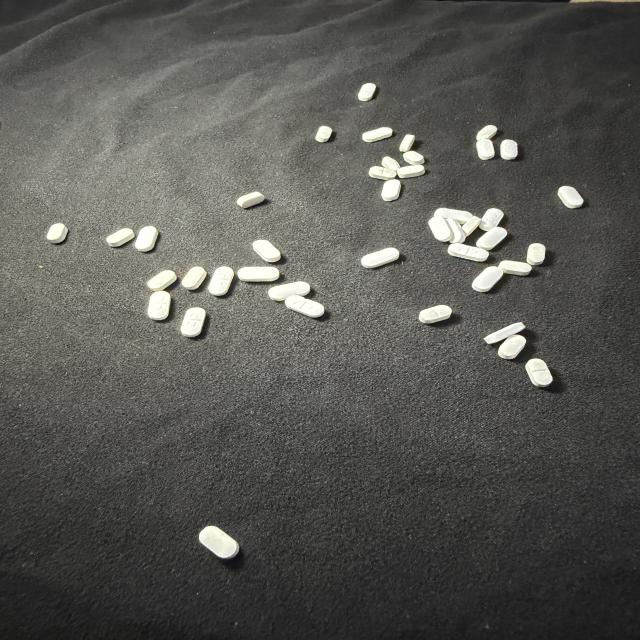pill: (199, 526, 239, 559), (484, 322, 525, 343), (285, 295, 324, 317), (472, 266, 503, 292), (268, 282, 310, 301), (361, 248, 399, 268), (209, 266, 234, 296), (526, 359, 552, 387), (181, 308, 205, 337), (477, 227, 507, 250), (448, 244, 488, 261), (498, 335, 526, 359), (148, 291, 171, 320), (253, 240, 281, 262), (147, 270, 176, 291), (135, 226, 158, 252), (237, 267, 279, 281), (419, 305, 451, 323), (182, 267, 206, 290), (429, 217, 452, 241), (106, 228, 135, 247), (558, 186, 583, 208), (434, 208, 472, 222), (480, 208, 503, 231), (498, 260, 531, 275), (445, 219, 465, 243), (362, 127, 392, 142), (381, 179, 401, 201), (237, 192, 264, 208), (396, 164, 426, 178), (47, 224, 68, 243), (527, 243, 545, 265), (463, 216, 481, 236), (369, 167, 396, 180), (477, 140, 494, 160), (358, 83, 376, 101), (500, 140, 517, 159), (477, 125, 497, 140), (399, 135, 415, 153), (403, 151, 424, 164), (381, 157, 400, 171), (316, 126, 332, 142)
